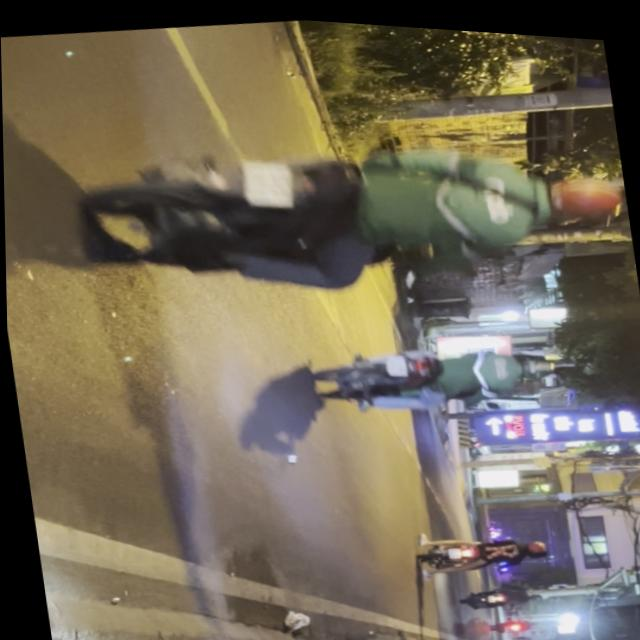helmet: (530, 157, 625, 224), (513, 345, 554, 374)
licenseplate: (70, 90, 637, 333), (305, 317, 562, 425)
nohelmet: (240, 151, 294, 207), (384, 348, 406, 371)
